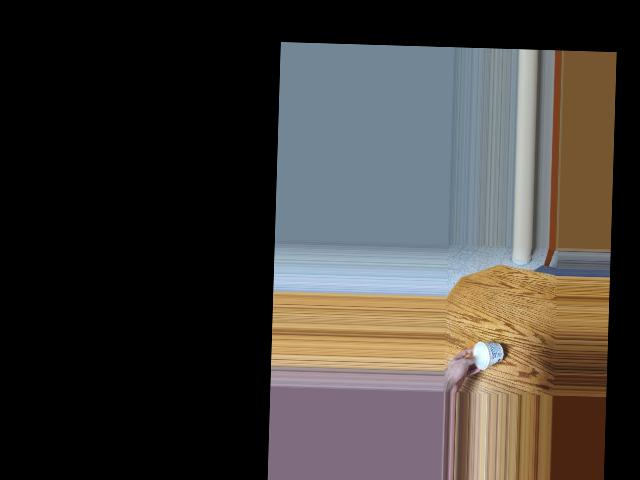cotage: (474, 338, 504, 369)
